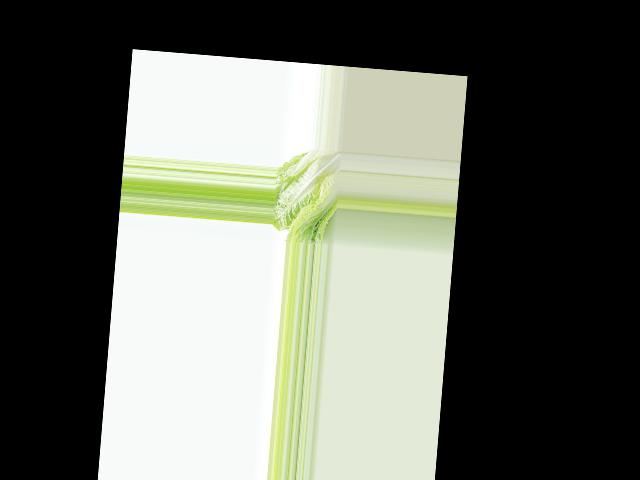lettuce: (271, 146, 341, 246)
